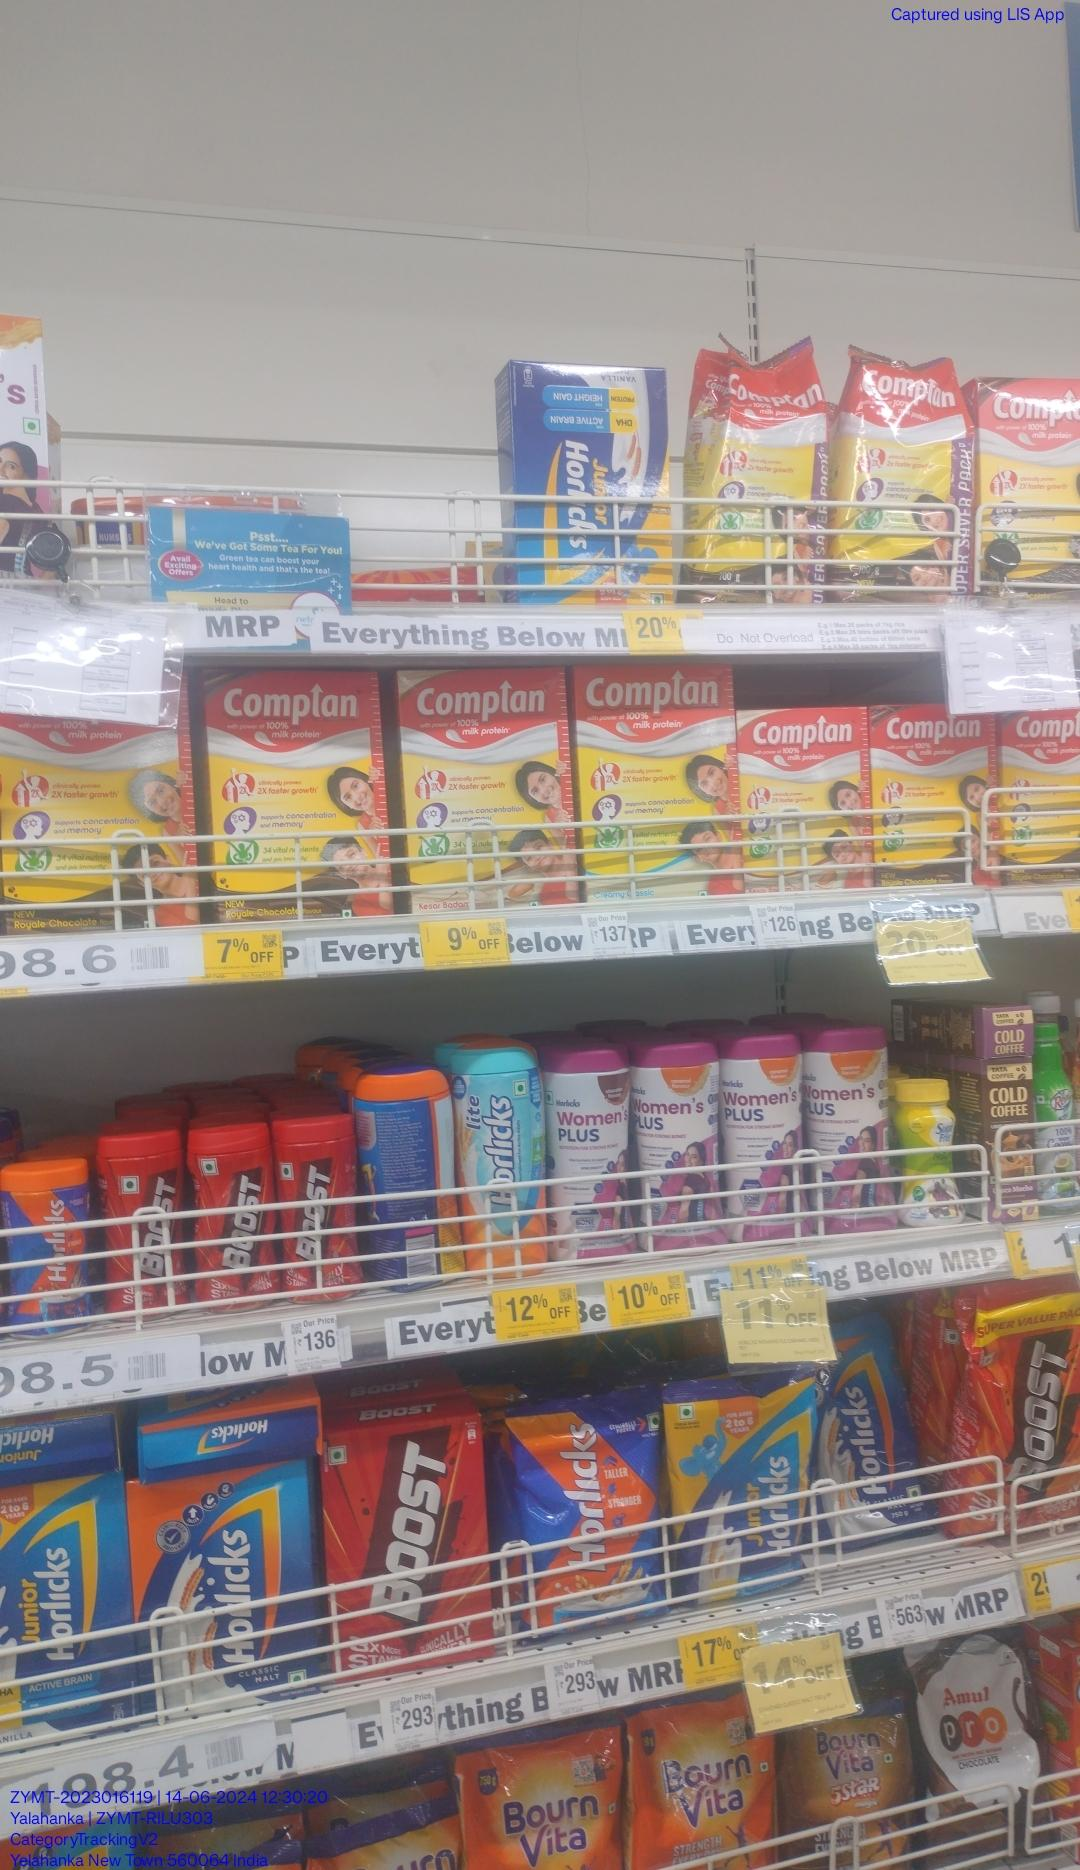BOURN_VITA_750_G_POUCH: (630, 1704, 773, 1870)
BOURN_VITA_FIVE_STAR_MAGIC_750_G_POUCH: (786, 1709, 908, 1867)
COMPLAN_CHOCOLATE_200_GMS_PACK: (204, 664, 396, 916), (870, 703, 994, 883), (999, 709, 1080, 883)
COMPLAN_CREAMY_CLASSIC_500_G_PACK: (582, 664, 739, 898)
COMPLAN_KESAR_BADAM_200_GMS_PACK: (399, 670, 579, 909), (742, 707, 868, 891)
COMPLAN_RC_POUCH_700_GMS_12: (833, 347, 977, 603), (710, 343, 831, 600)
HORLICKS_LITE_REGULAR_MALT_500_GM_JAR: (462, 1049, 543, 1271)
HORLICK_CLASSIC_MALT_500_G_PACK: (139, 1477, 315, 1695)
